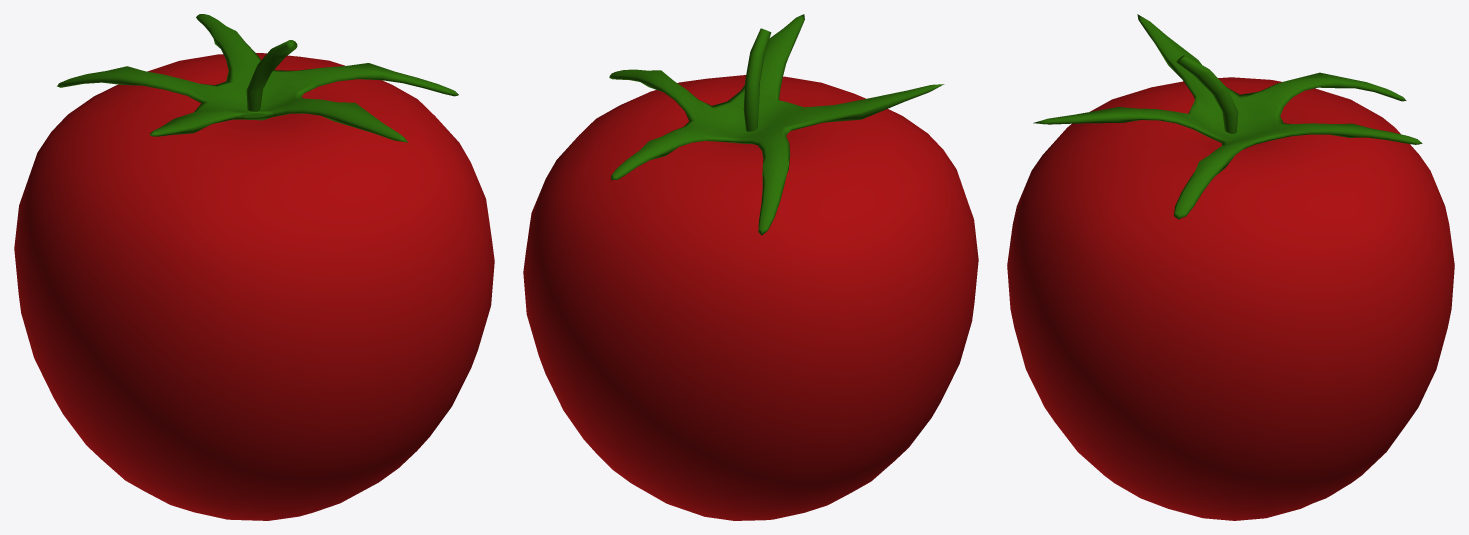
Rendered from Tomato.glb.
3 views of the same model, side by side, from view 1: azimuth 30°, elevation 25°; view 2: azimuth 150°, elevation 25°; view 3: azimuth 270°, elevation 25° (orthographic). The views are drawn at different scales.
Visible parts, largest first — view 1: Apple, Apple.001, Stalk; view 2: Apple, Apple.001, Stalk; view 3: Apple, Apple.001, Stalk.
Boxes of the visible parts, x1=… form: Apple: x1=14, y1=53, x2=494, y2=520; Apple.001: x1=57, y1=14, x2=458, y2=142; Stalk: x1=246, y1=40, x2=297, y2=111; Apple: x1=523, y1=75, x2=978, y2=520; Apple.001: x1=609, y1=14, x2=944, y2=235; Stalk: x1=743, y1=28, x2=771, y2=131; Apple: x1=1007, y1=77, x2=1454, y2=520; Apple.001: x1=1033, y1=14, x2=1422, y2=219; Stalk: x1=1176, y1=55, x2=1238, y2=133.
Size of the model in its own units: 0.655 by 0.7286 by 0.6549.
